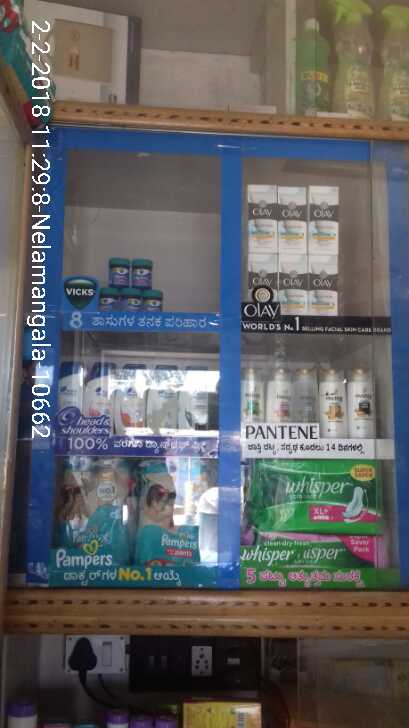beauty: (311, 183, 343, 258), (141, 368, 176, 434), (348, 366, 379, 440), (242, 182, 276, 249), (318, 365, 349, 438), (279, 178, 307, 255), (82, 365, 116, 427), (115, 362, 145, 430), (181, 362, 208, 432), (269, 359, 294, 431), (241, 364, 266, 434), (55, 366, 86, 421), (282, 256, 310, 316), (292, 370, 318, 431), (312, 262, 341, 314)
pharmacy: (247, 462, 390, 532), (54, 462, 137, 565), (142, 460, 211, 571), (92, 287, 118, 321), (107, 255, 130, 287), (115, 286, 143, 312), (129, 258, 150, 284), (144, 286, 161, 312)
